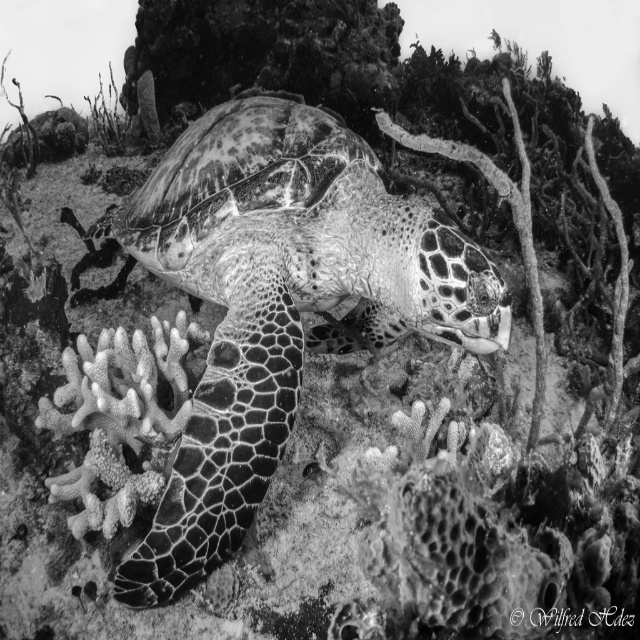Sea turtle: (83, 98, 514, 613)
